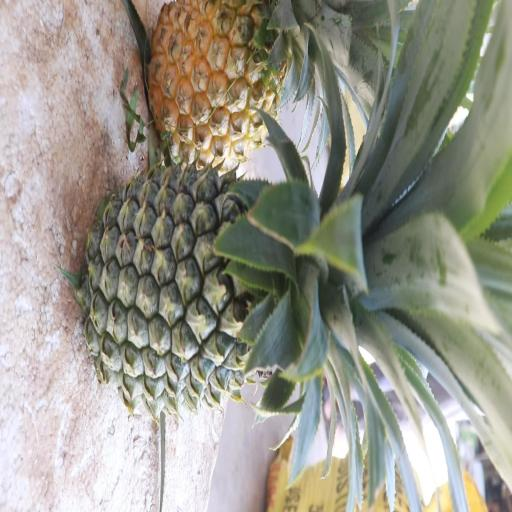Pineapple - v8 v1: (150, 0, 305, 166)
